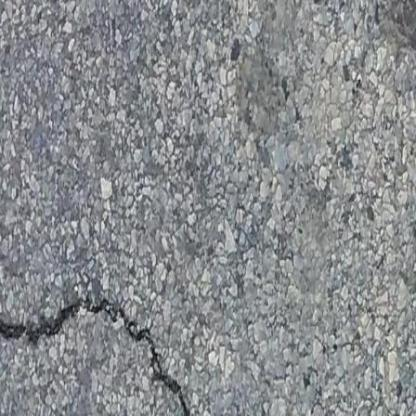Cracks: (1, 283, 239, 416)
